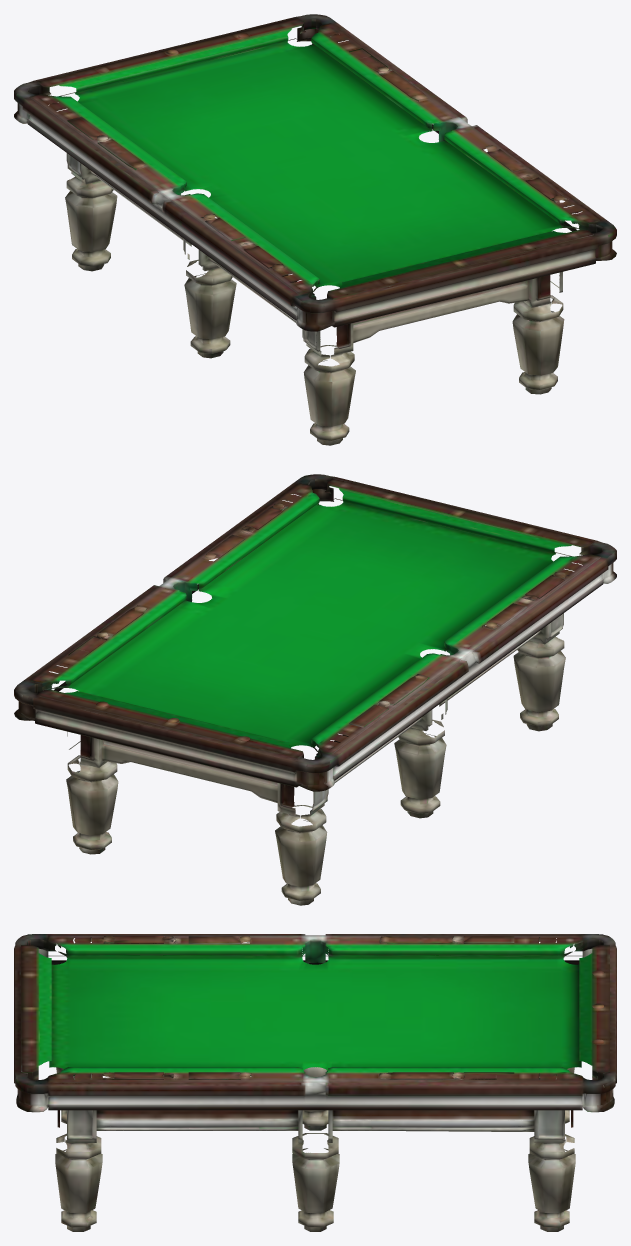
Rendered from table-9ft.glb.
The picture shows the model from 3 angles, top to bottom: view 1: azimuth 30°, elevation 25°; view 2: azimuth 150°, elevation 25°; view 3: azimuth 270°, elevation 25°; orthographic projection.
Visible parts, largest first — view 1: tripo_node_e7147976-8c96-4336-a249-1cc11f3739dc; view 2: tripo_node_e7147976-8c96-4336-a249-1cc11f3739dc; view 3: tripo_node_e7147976-8c96-4336-a249-1cc11f3739dc.
Boxes of the visible parts, x1,y1,x2,y2 form: tripo_node_e7147976-8c96-4336-a249-1cc11f3739dc: (14, 14, 616, 445); tripo_node_e7147976-8c96-4336-a249-1cc11f3739dc: (14, 474, 616, 905); tripo_node_e7147976-8c96-4336-a249-1cc11f3739dc: (14, 934, 616, 1231).
Size of the model in its own units: 0.5884 by 0.3047 by 0.9794.
1 material, 1 textured.
